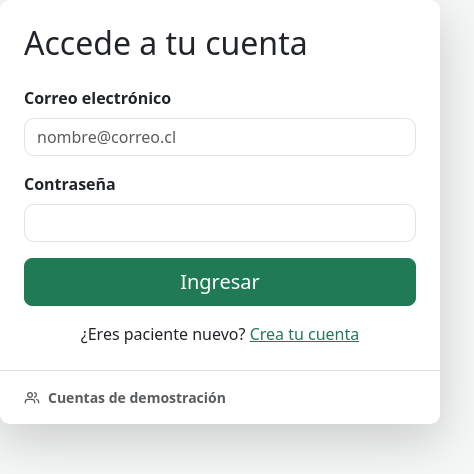
Test case: components/FormLogin › deshabilita el botón de envío y cambia el texto a "Verificando..." mientras procesa el login
Step 1. Type "paciente@nutrivida.cl" into the field labelled "Correo electrónico" → {"x": 220, "y": 137}, box [24,118,416,156]
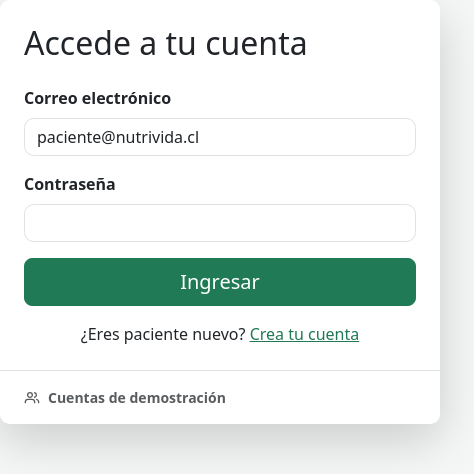
Step 2. Type "ClaveCorrecta123" into the password field labelled "Contraseña" → {"x": 220, "y": 223}, box [24,204,416,242]
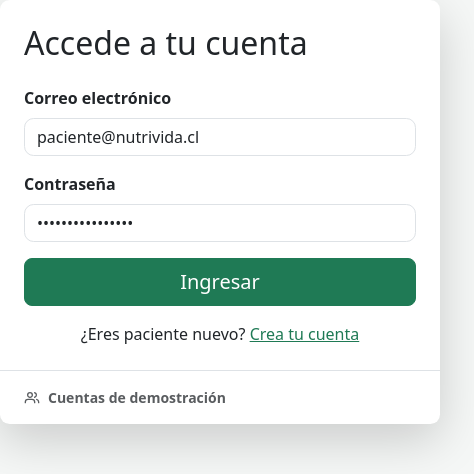
Step 3. Click the button "Ingresar" → {"x": 220, "y": 282}, box [24,258,416,306]
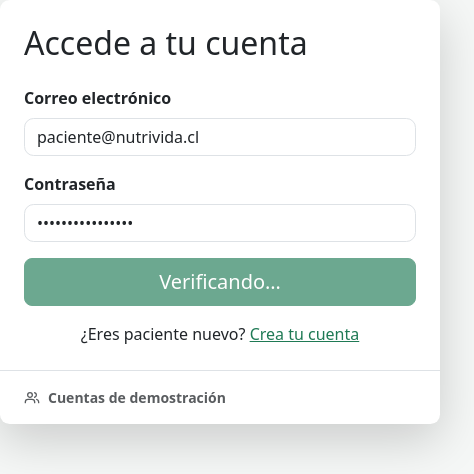
Expected: the button named "Ingresar" is disabled, [24,258,416,306]
Expected: the button named "Ingresar" reads "Verificando…", [24,258,416,306]
